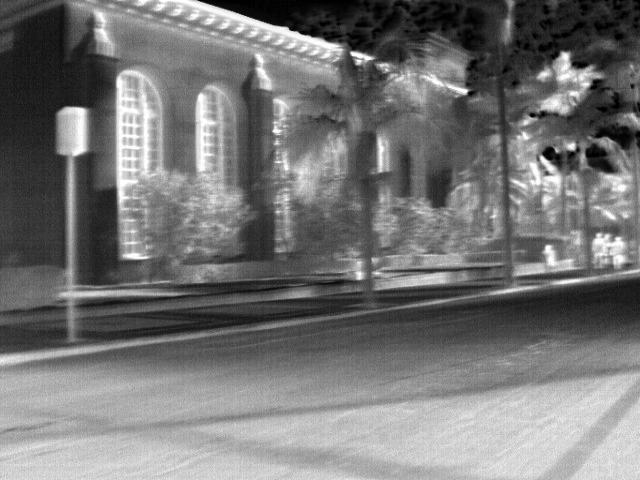person: (613, 233, 627, 269), (591, 229, 604, 266), (543, 244, 558, 273), (603, 231, 614, 269)
